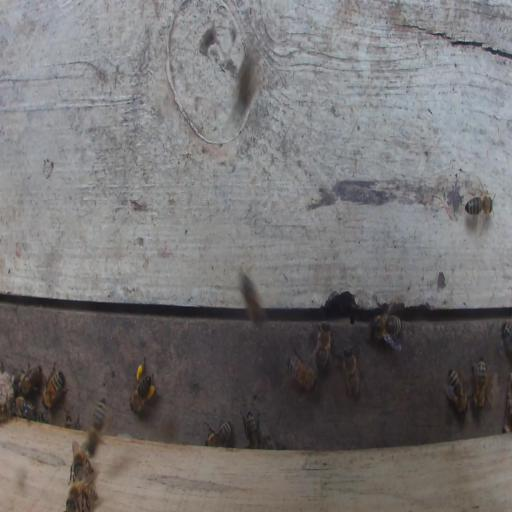nonpollenbee: (86, 398, 108, 457), (286, 356, 318, 396), (242, 273, 262, 327), (240, 48, 256, 111), (65, 480, 97, 511), (448, 369, 467, 418), (343, 348, 360, 402), (42, 372, 65, 409), (17, 363, 43, 395), (316, 323, 330, 379), (372, 314, 401, 340), (205, 422, 231, 448), (474, 356, 486, 411), (464, 196, 493, 217), (9, 396, 35, 419), (246, 412, 260, 448), (72, 452, 86, 479), (503, 324, 512, 357), (63, 407, 72, 429)
pollenbee: (130, 360, 155, 414)
